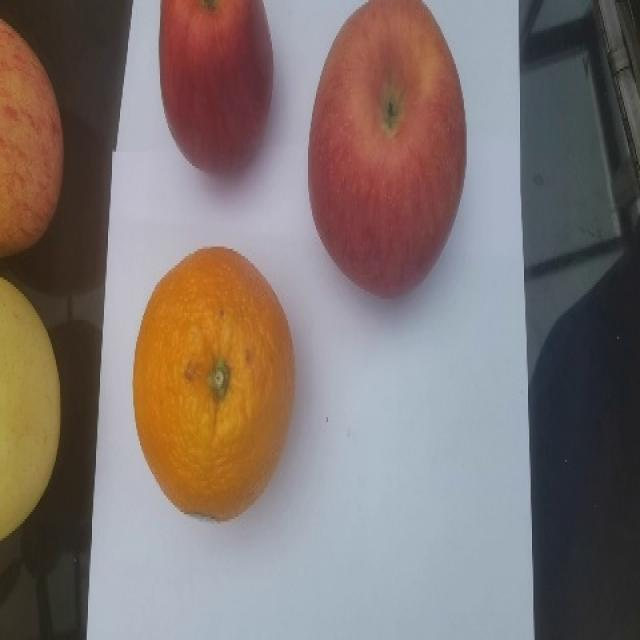Apple: (307, 0, 467, 299), (157, 0, 274, 174), (0, 17, 64, 258)
Orange: (131, 245, 295, 521)
